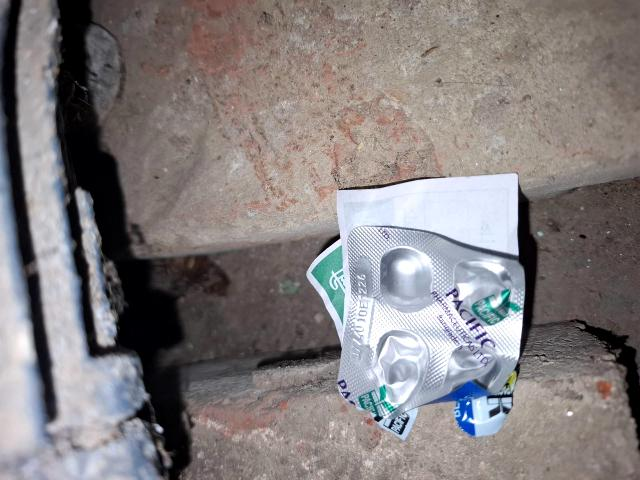medicine: (325, 232, 533, 419)
